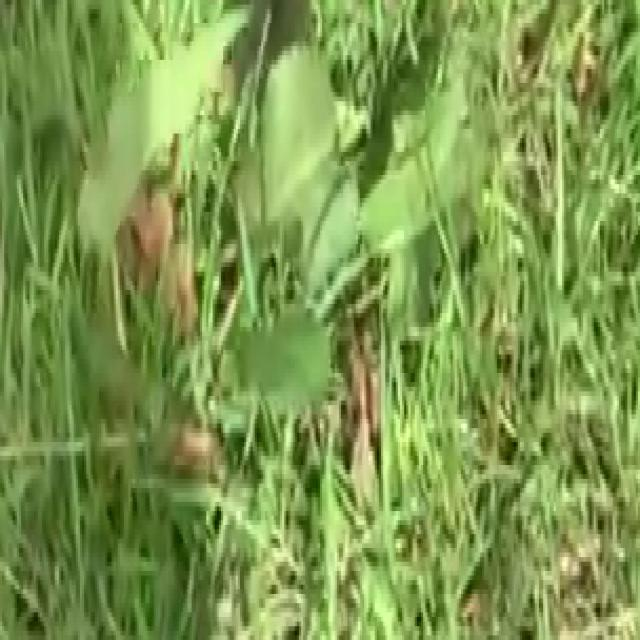organic waste: (52, 0, 494, 557)
